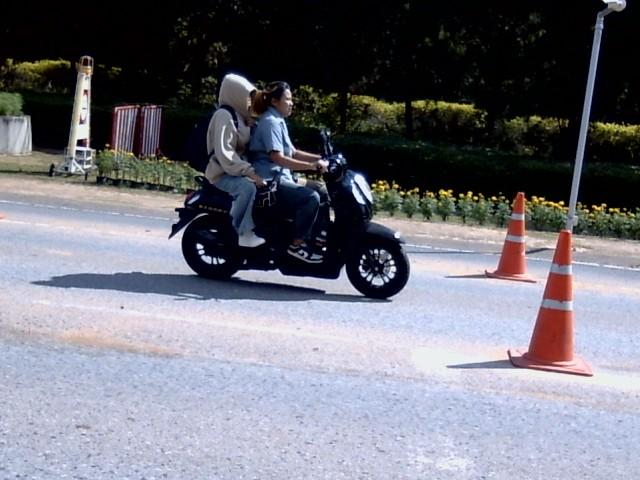motor: (168, 131, 408, 298)
no-helmet: (218, 73, 255, 110), (263, 80, 293, 116)
person: (250, 81, 327, 263), (205, 74, 264, 246)
